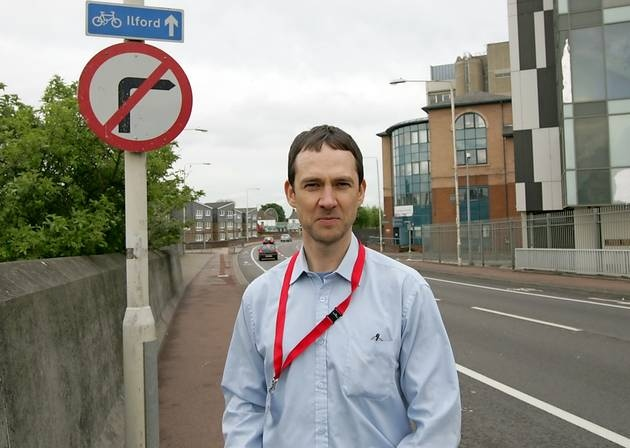No_right_turn: (78, 43, 195, 151)
